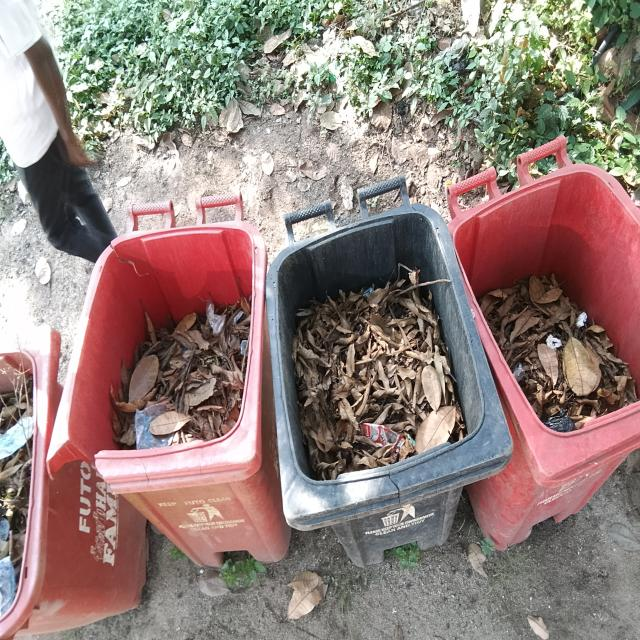full: (0, 322, 51, 631)
half-full: (268, 201, 491, 501), (448, 162, 640, 462), (68, 224, 256, 469)
